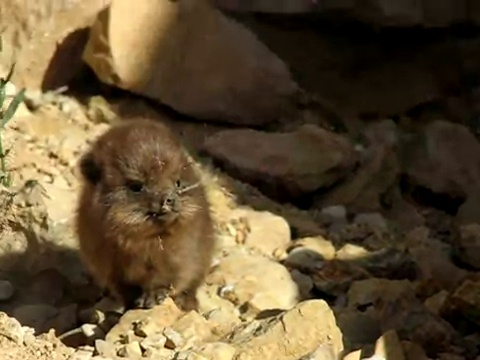Rock Hyrex: (73, 117, 213, 316)
